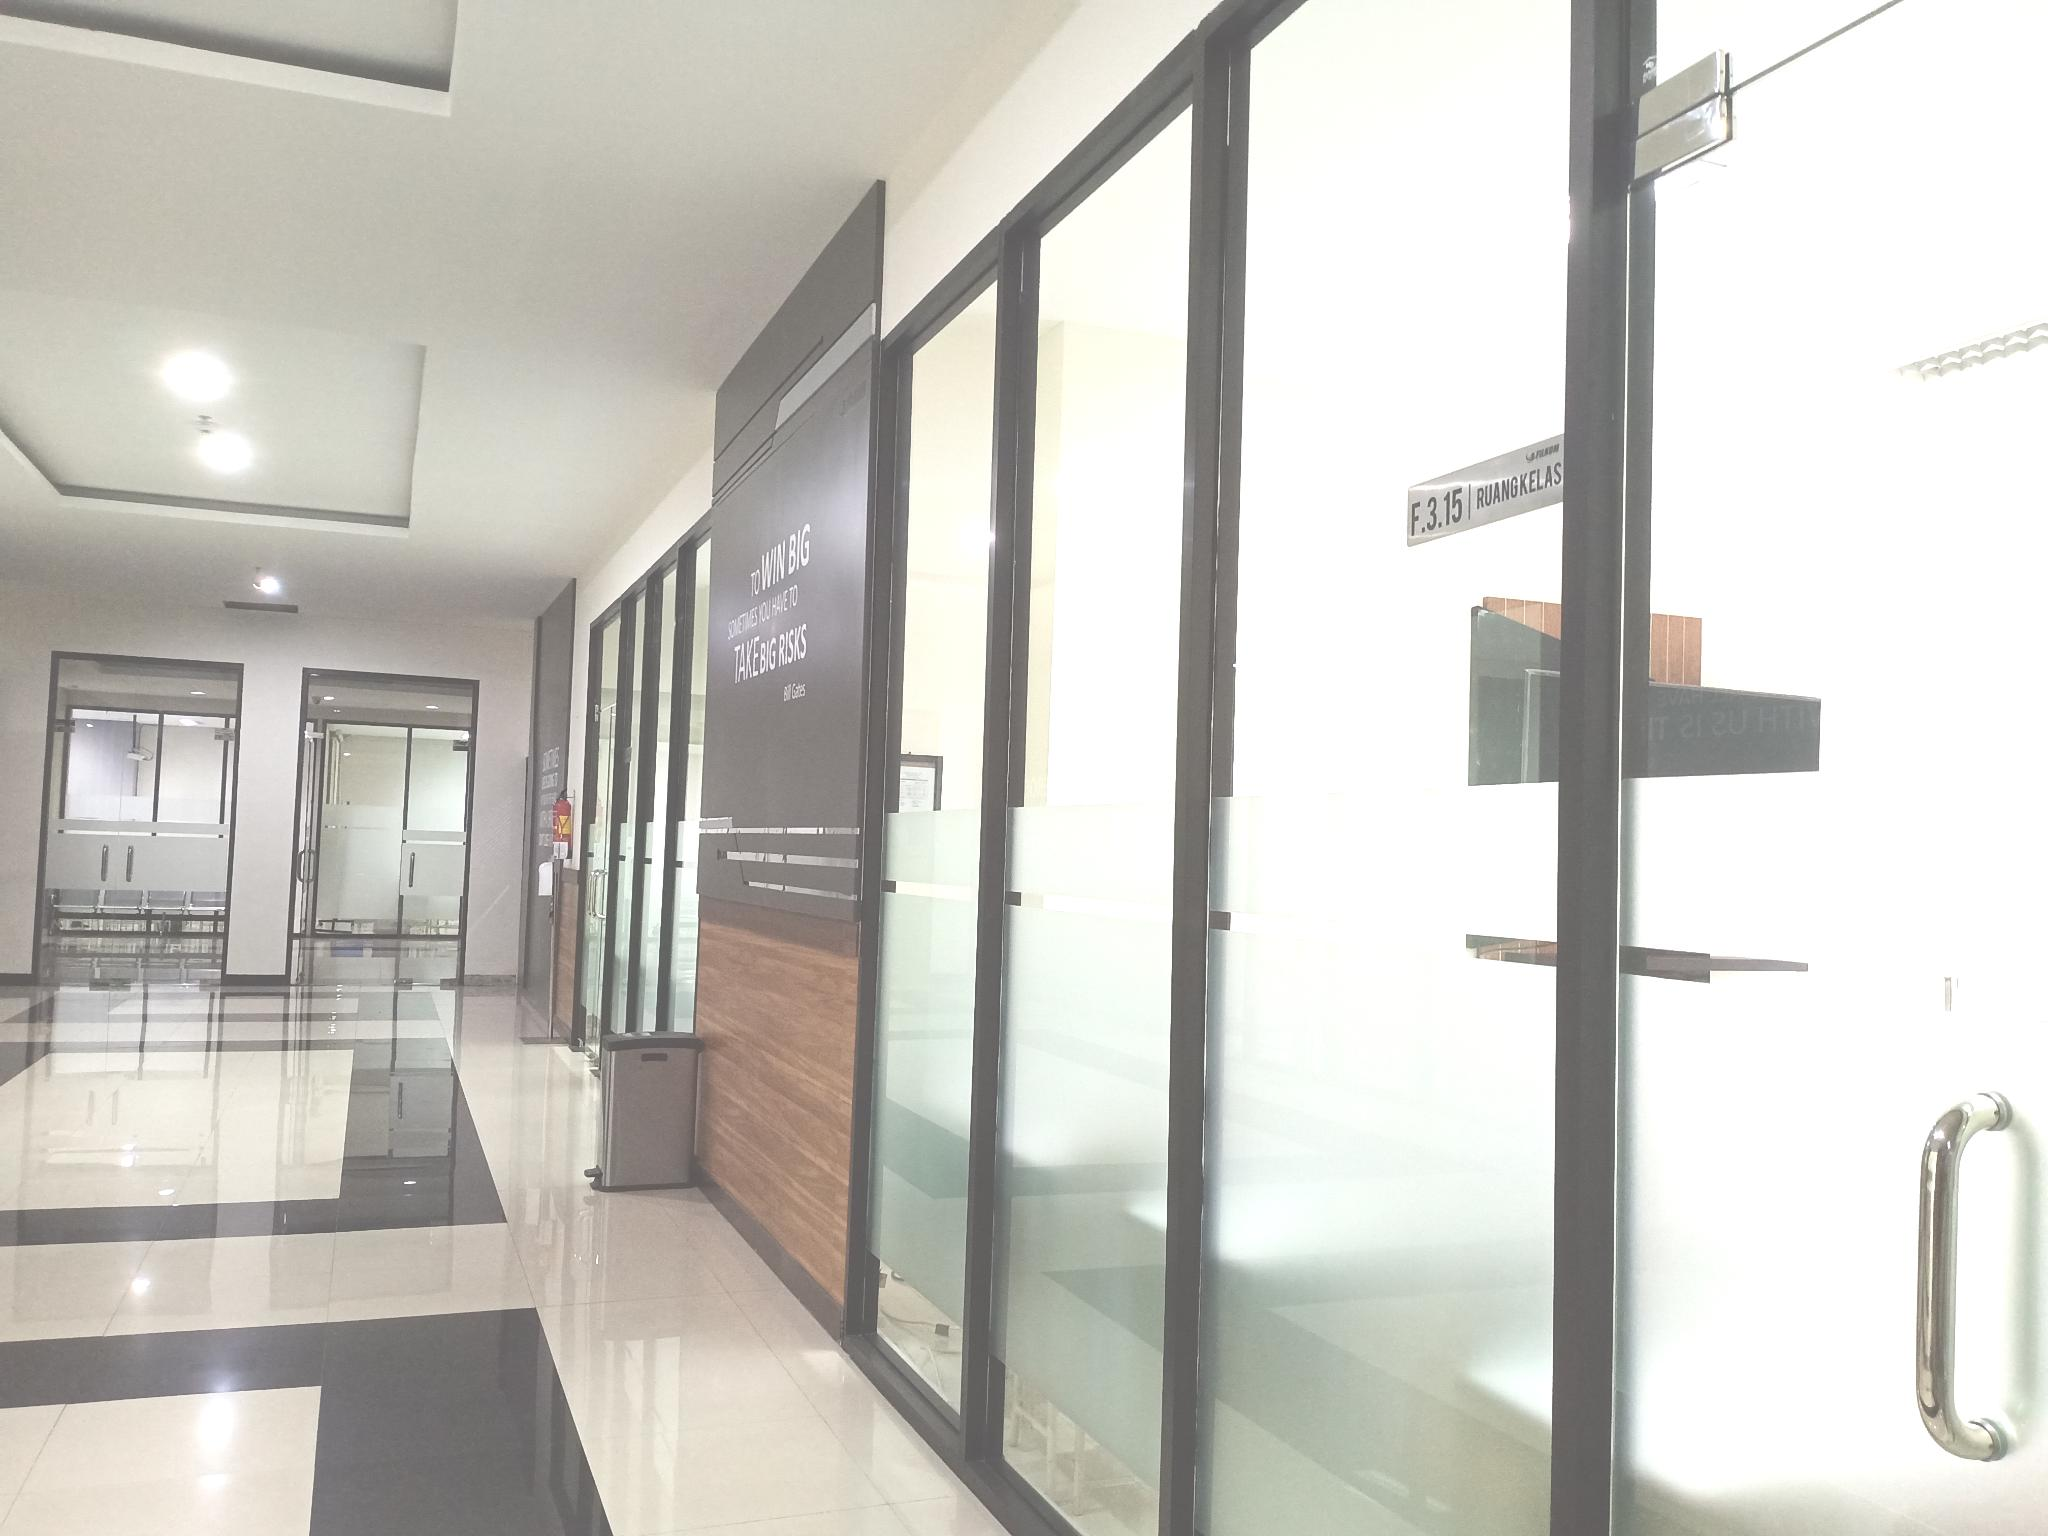plate: (1406, 434, 1563, 547)
